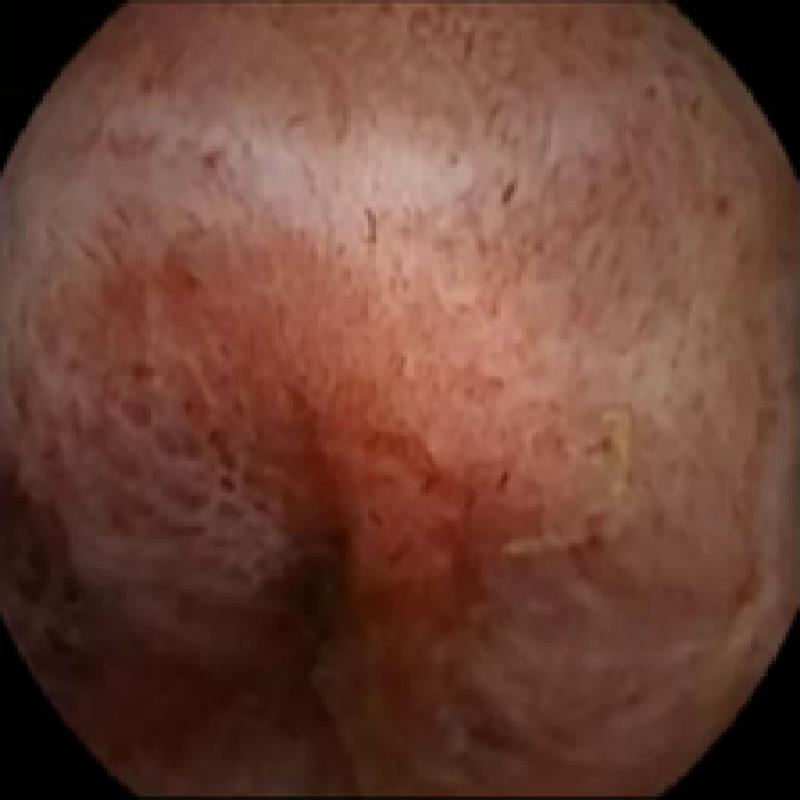bleeding: (4, 268, 714, 800)
